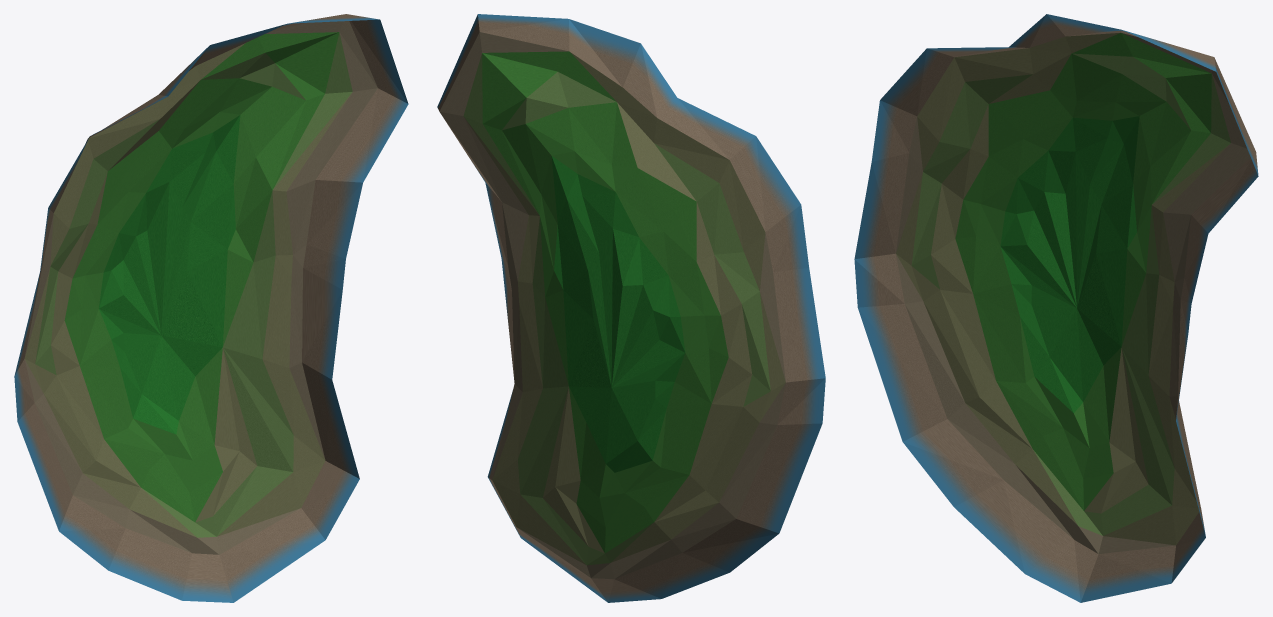
The model's file is green_land_3.FBX.
The picture shows the model from 3 angles, left to right: view 1: azimuth 30°, elevation 25°; view 2: azimuth 150°, elevation 25°; view 3: azimuth 330°, elevation 25°; orthographic projection. The views are drawn at different scales.
Parts seen in each view (by area): view 1: Icosphere.003; view 2: Icosphere.003; view 3: Icosphere.003.
Part boxes in pixels (box(x1,y1,x2,y2)): Icosphere.003: box(14, 14, 408, 602); Icosphere.003: box(437, 14, 825, 602); Icosphere.003: box(854, 14, 1258, 602).
Size of the model in its own units: 3209 by 4468 by 615.
